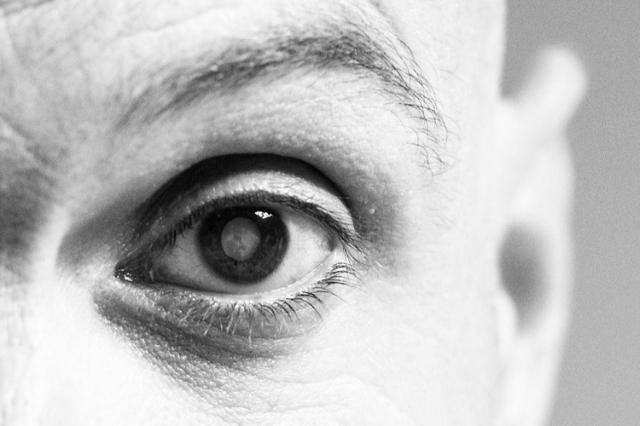eye: (194, 196, 300, 288)
